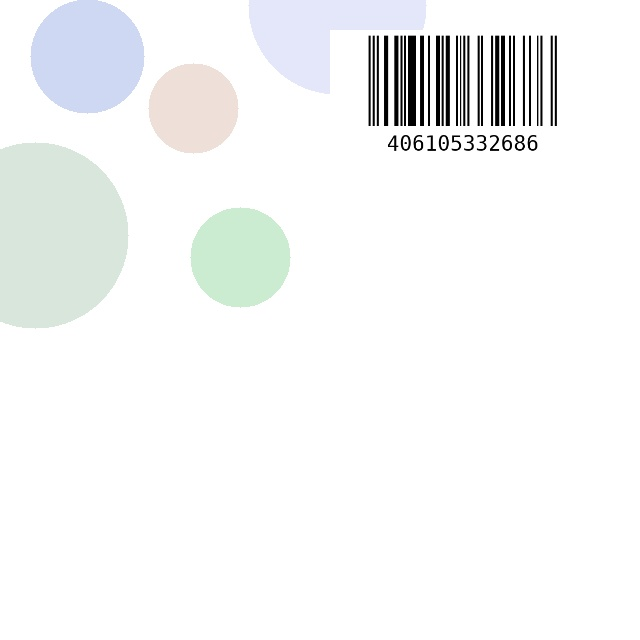barcode: (330, 30, 595, 172)
